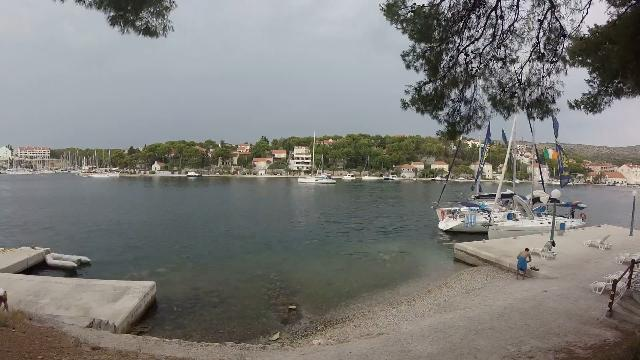Sailboat: (294, 173, 340, 185)
